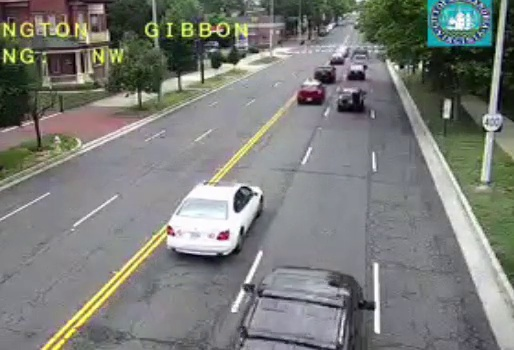car: (236, 266, 363, 350), (167, 184, 263, 256), (297, 82, 323, 105), (337, 89, 364, 111), (314, 65, 337, 84), (347, 65, 366, 81)
